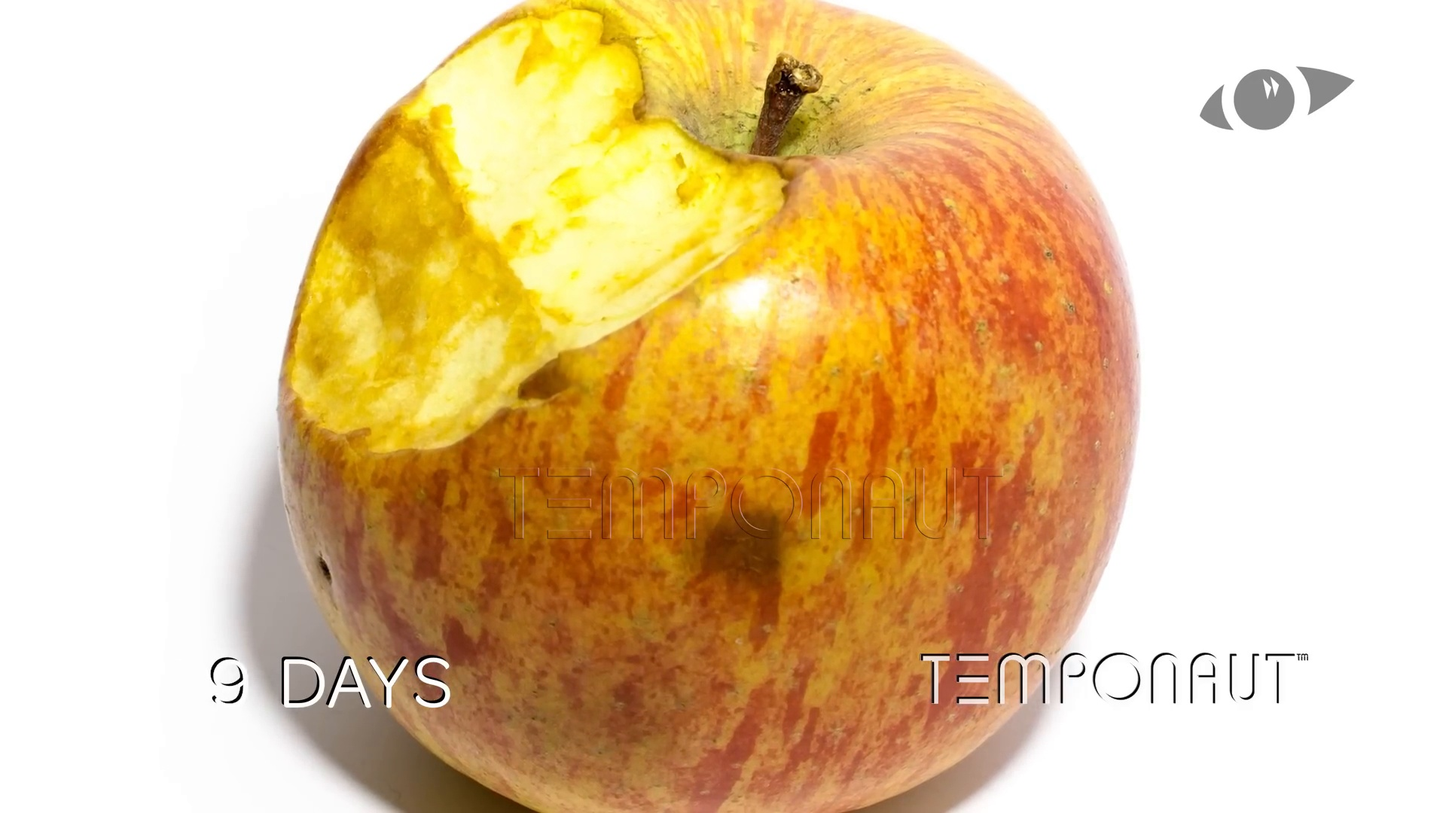apple_rotten: (276, 3, 1141, 803)
